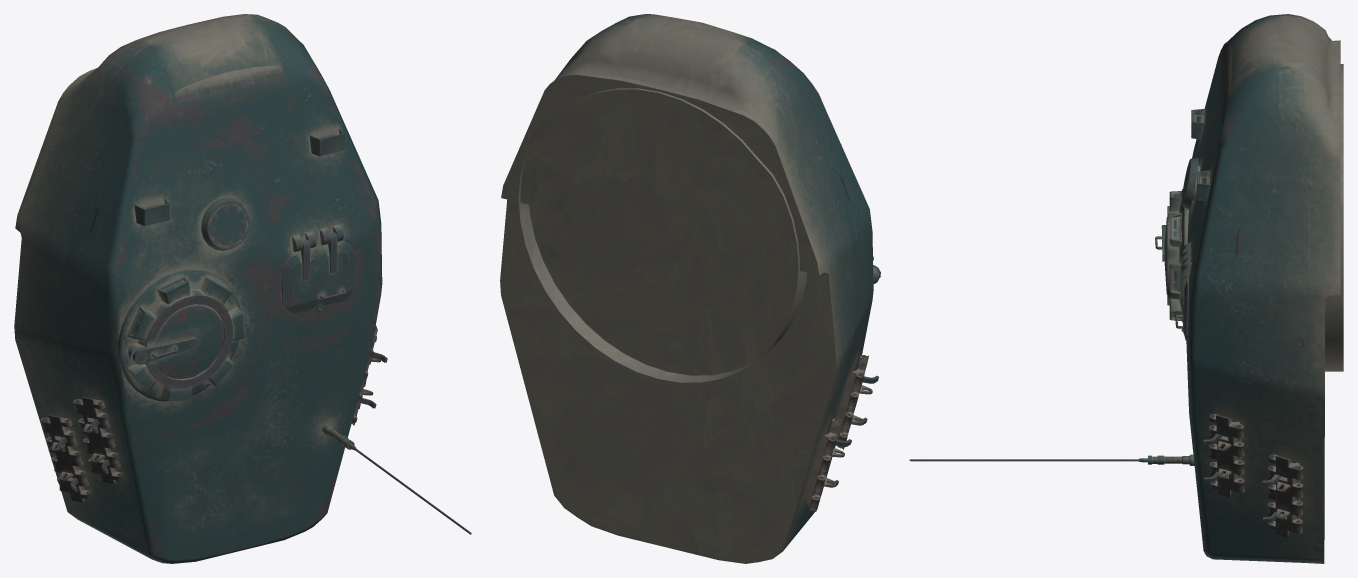
File: Turret_02.glb
3 views of the same model, side by side, from view 1: azimuth 30°, elevation 25°; view 2: azimuth 150°, elevation 25°; view 3: azimuth 270°, elevation 25° (orthographic). The views are drawn at different scales.
Visible parts, largest first — view 1: set_0_group_0; view 2: set_0_group_0; view 3: set_0_group_0.
Part boxes in pixels (x1,y1,x2,y2): set_0_group_0: (14,14,471,563); set_0_group_0: (500,14,880,563); set_0_group_0: (909,14,1343,563).
Size of the model in its own units: 2.44 by 3.58 by 2.81.
1 material, 1 textured.
